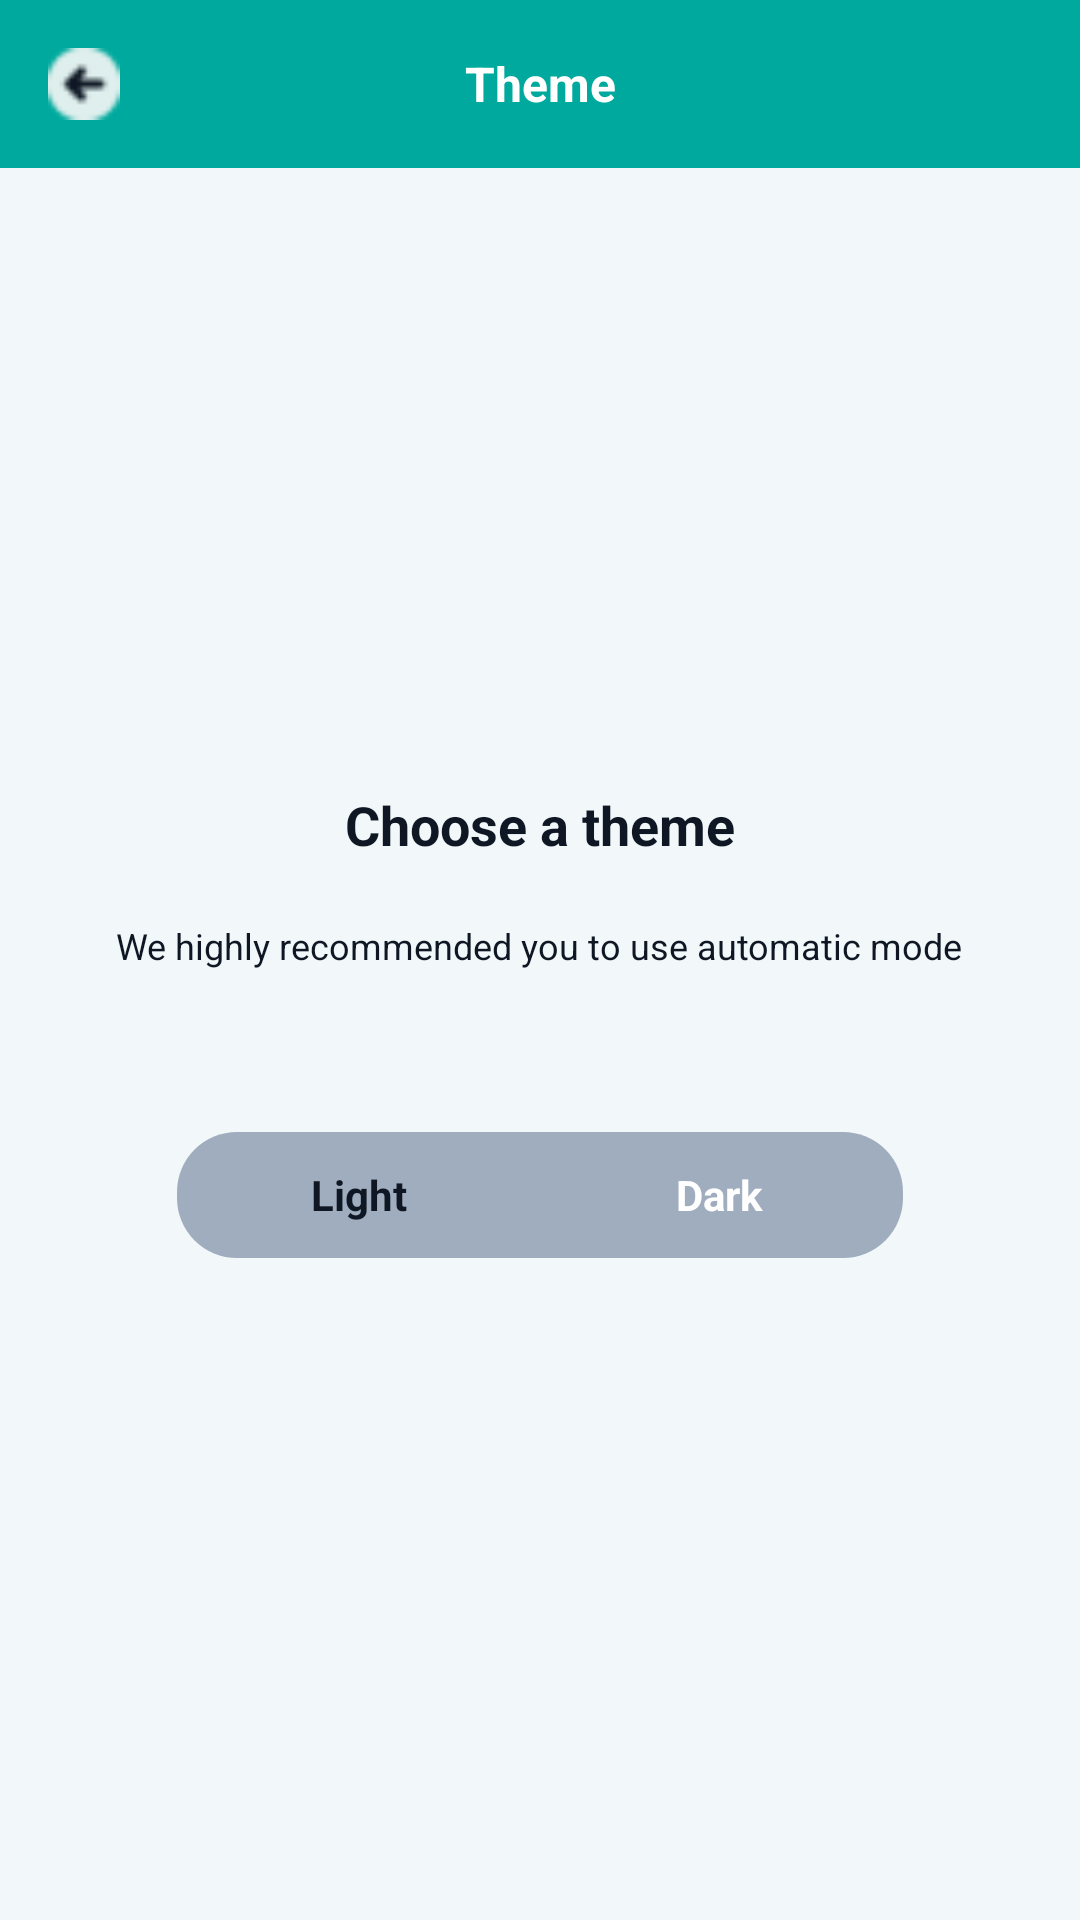

Locate icon controls on the screen. Image size 1080px x 1920px, boxes as bbox(x1, y1, x2, y2).
previous: bbox(48, 48, 120, 120)
